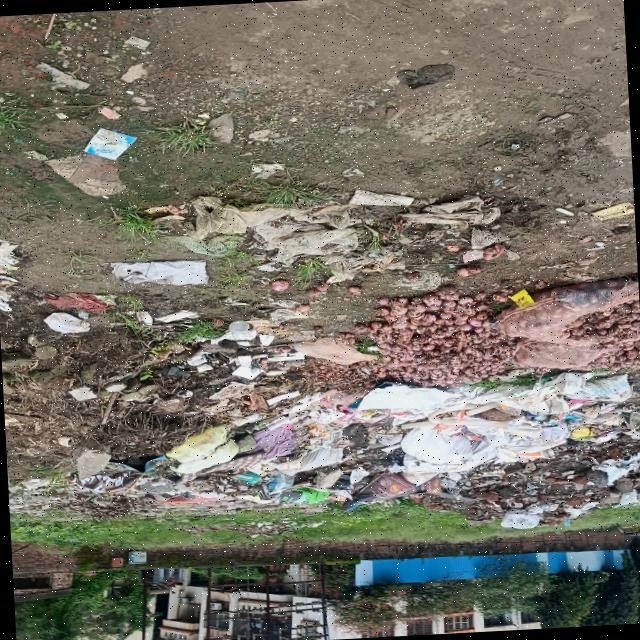garbage: (0, 270, 640, 541), (150, 169, 576, 300)
